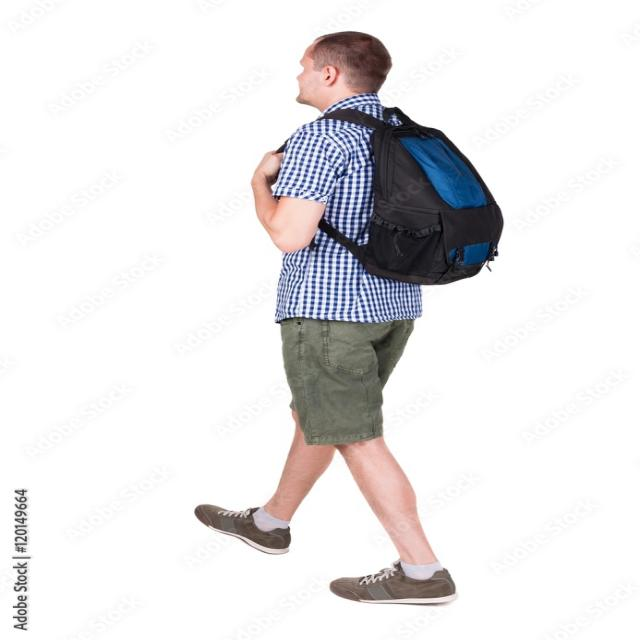backpack: (283, 106, 506, 287)
